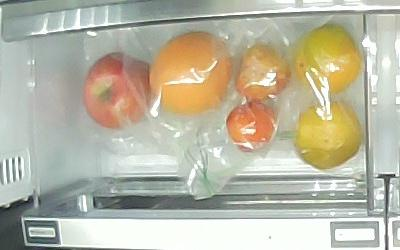apple_vinyl: (84, 52, 152, 130)
grapefruit_vinyl: (149, 32, 233, 116)
persimmon_vinyl: (295, 100, 361, 170), (295, 25, 360, 93)
prune_vinyl: (235, 43, 291, 103), (228, 101, 278, 153)
